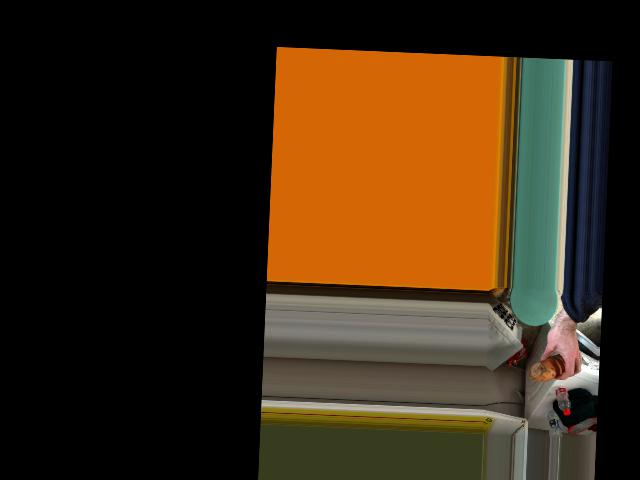sweet_potato: (535, 353, 564, 383)
